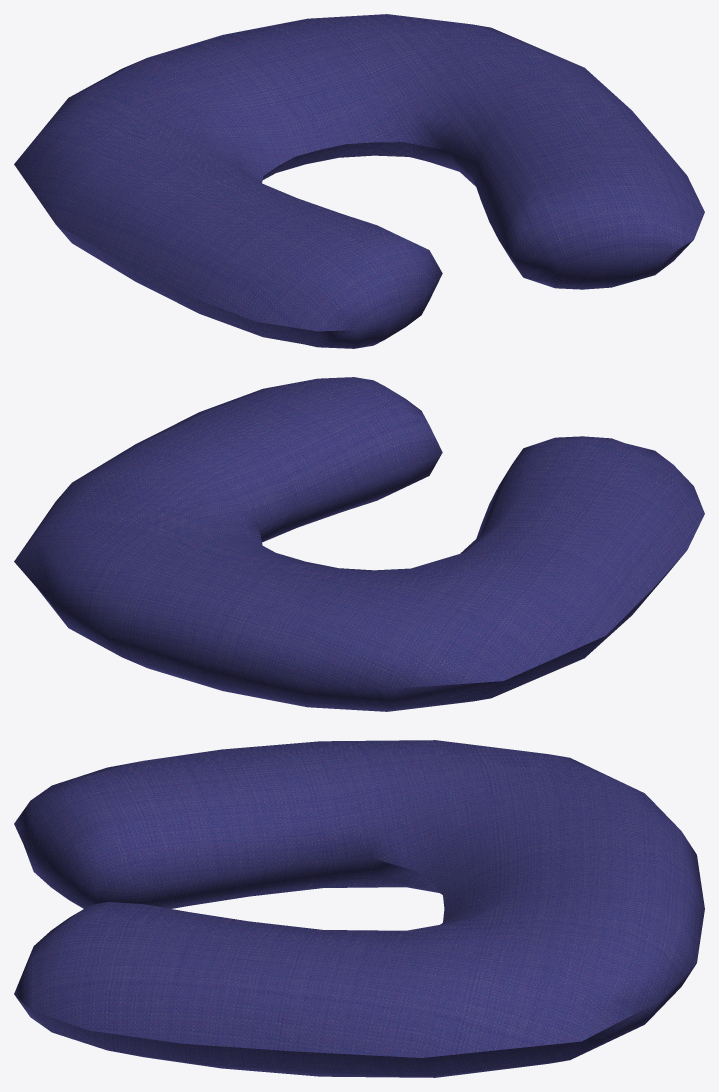
The model's file is pillow.obj.
3 renders of one model, top to bottom at view 1: azimuth 30°, elevation 25°; view 2: azimuth 150°, elevation 25°; view 3: azimuth 270°, elevation 25°, orthographic. The views are drawn at different scales.
Visible parts, largest first — view 1: carPillow; view 2: carPillow; view 3: carPillow.
Part boxes in pixels (x1,y1,x2,y2): carPillow: (14, 14, 704, 348); carPillow: (14, 377, 704, 711); carPillow: (14, 740, 704, 1077).
Bounding box in the file's own units: 29.41 × 5.24 × 28.81.
Materials: 1 (1 with a texture image).
